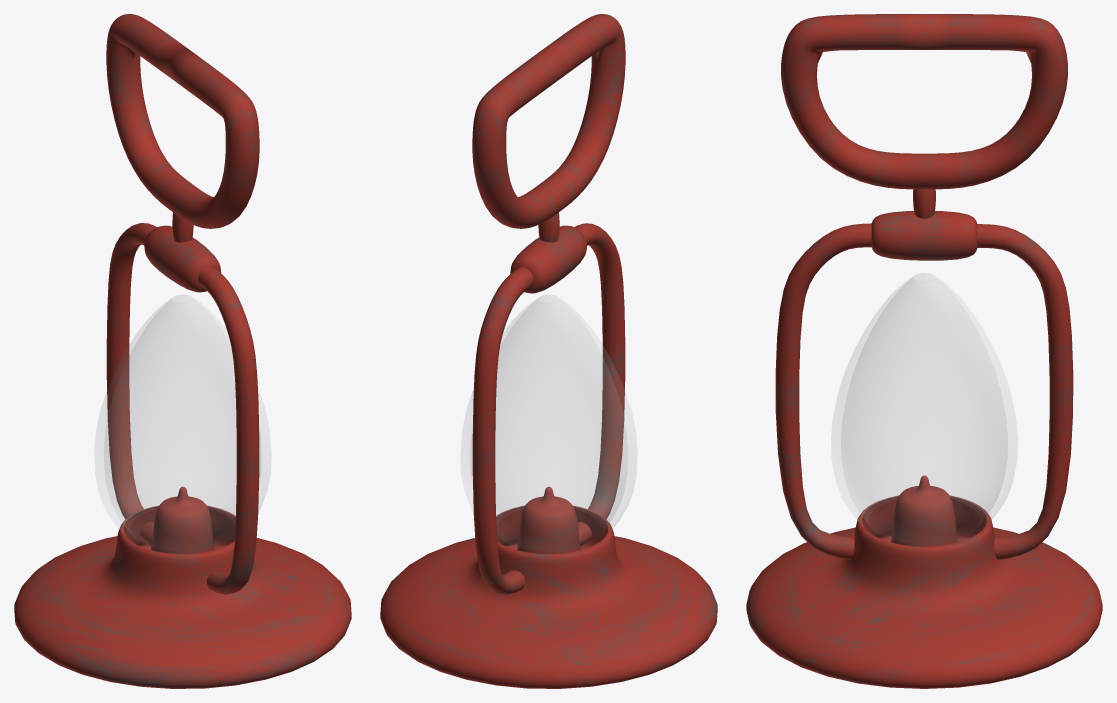
Rendered from Lantern.fbx.
3 views of the same model, side by side, from view 1: azimuth 30°, elevation 25°; view 2: azimuth 150°, elevation 25°; view 3: azimuth 270°, elevation 25° (orthographic). The views are drawn at different scales.
Visible parts, largest first — view 1: Lantern, Lantern_GLASS, Lantern_HANDLE, Joint; view 2: Lantern, Lantern_GLASS, Lantern_HANDLE, Joint; view 3: Lantern, Lantern_GLASS, Lantern_HANDLE, Joint.
Boxes of the visible parts, x1,y1,x2,y2 form: Lantern: (14,223,351,688); Lantern_GLASS: (95,295,270,550); Lantern_HANDLE: (106,14,259,228); Joint: (144,212,221,292); Lantern: (380,223,717,688); Lantern_GLASS: (461,295,636,550); Lantern_HANDLE: (472,14,625,228); Joint: (510,212,587,293); Lantern: (746,223,1102,688); Lantern_GLASS: (831,273,1017,543); Lantern_HANDLE: (781,14,1067,189); Joint: (871,189,977,260).
Size of the model in its own units: 134 by 249 by 134.
